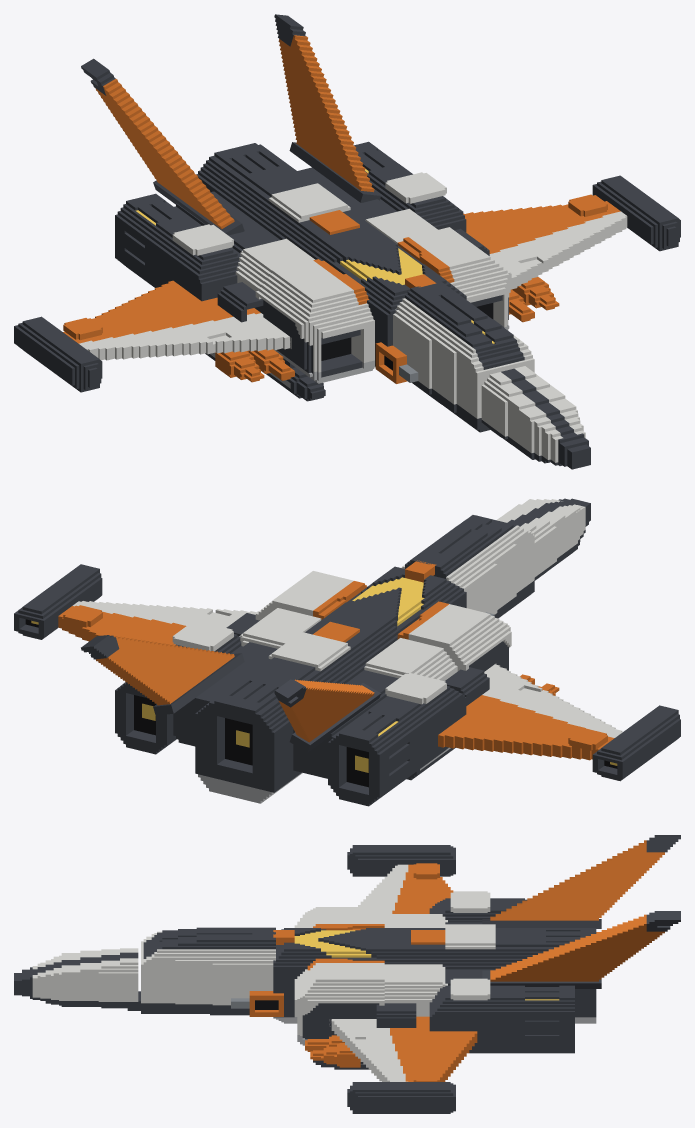
Rendered from FalcoJet_r4_20261106.glb.
3 views of the same model, one above another, from view 1: azimuth 30°, elevation 25°; view 2: azimuth 150°, elevation 25°; view 3: azimuth 270°, elevation 25° (orthographic). The views are drawn at different scales.
Parts seen in each view (by area): view 1: JetBody, JetWingR, JetWingL, JetCockpit, JetTailL, JetTailR; view 2: JetBody, JetWingR, JetWingL, JetCockpit, JetTailL, JetTailR; view 3: JetBody, JetCockpit, JetWingL, JetTailR, JetTailL, JetWingR.
Boxes of the visible parts, x1,y1,x2,y2 form: JetBody: (115, 141, 590, 469); JetWingR: (14, 280, 291, 392); JetWingL: (463, 175, 680, 310); JetCockpit: (393, 281, 534, 432); JetTailL: (274, 14, 380, 202); JetTailR: (81, 58, 244, 235); JetBody: (115, 498, 590, 806); JetWingR: (438, 663, 680, 781); JetWingL: (14, 564, 258, 645); JetCockpit: (401, 514, 534, 618); JetTailL: (81, 635, 244, 715); JetTailR: (274, 679, 380, 752); JetBody: (14, 891, 596, 1069); JetCockpit: (141, 927, 275, 1015); JetWingL: (310, 1016, 477, 1113); JetTailR: (482, 835, 680, 928); JetTailL: (482, 911, 680, 988); JetWingR: (347, 845, 455, 913).
Bounding box in the file's own units: 11.15 × 3.3 × 12.6.
Materials: 1 (1 with a texture image).
